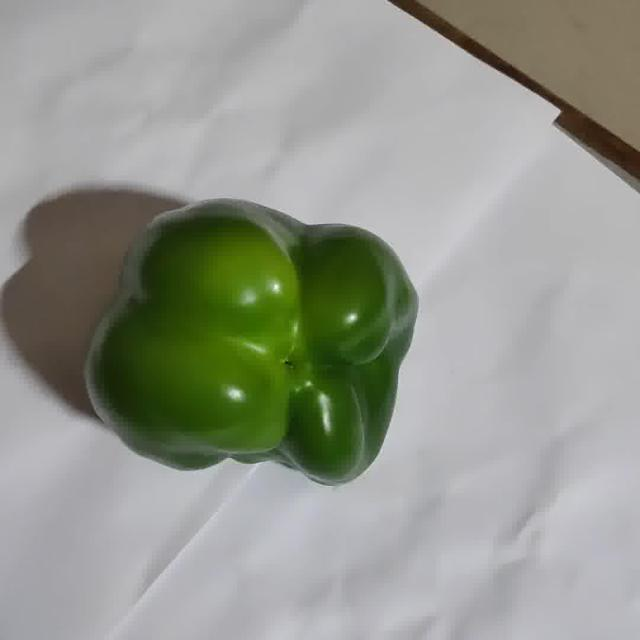Bell Pepper: (86, 201, 418, 484)
